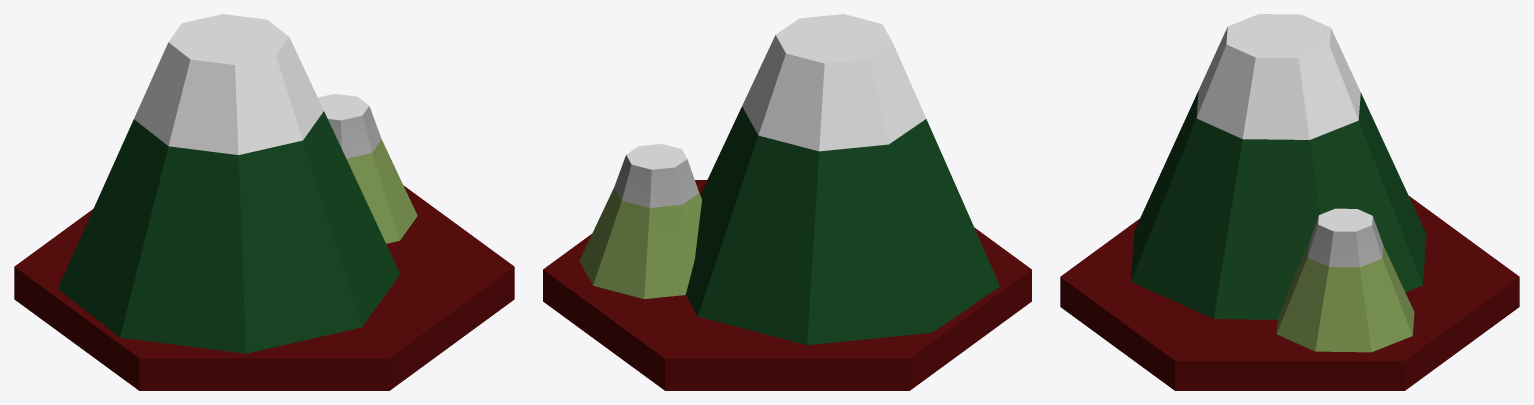
The model's file is hex_mountain.fbx.
The picture shows the model from 3 angles, left to right: view 1: azimuth 30°, elevation 25°; view 2: azimuth 150°, elevation 25°; view 3: azimuth 270°, elevation 25°; orthographic projection. The views are drawn at different scales.
Visible parts, largest first — view 1: mountain; view 2: mountain; view 3: mountain.
Boxes of the visible parts, <box> form: mountain: <box>14,14,514,390</box>; mountain: <box>543,14,1031,390</box>; mountain: <box>1060,14,1519,390</box>.
Bounding box in the file's own units: 0.866 × 0.6054 × 1.
